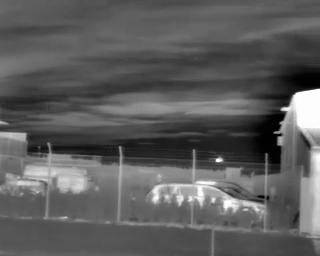HELICOPTER: (206, 153, 229, 167)
